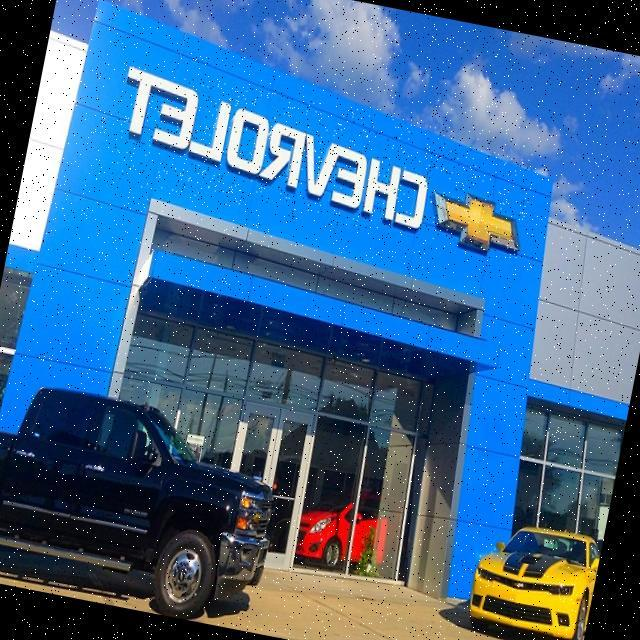Chevrolet: (105, 65, 540, 262), (512, 576, 529, 596)
